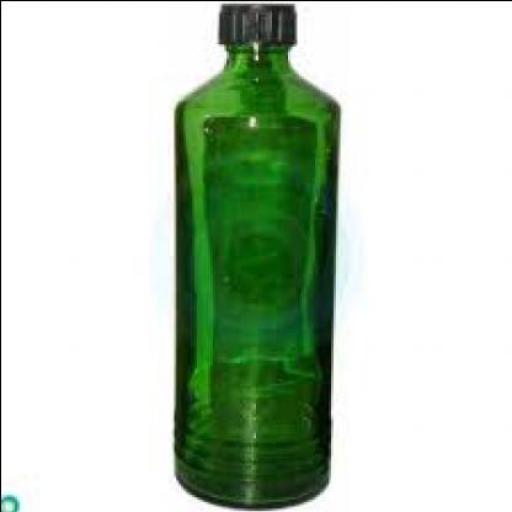glass: (173, 41, 341, 508)
plastic: (219, 1, 299, 42)
